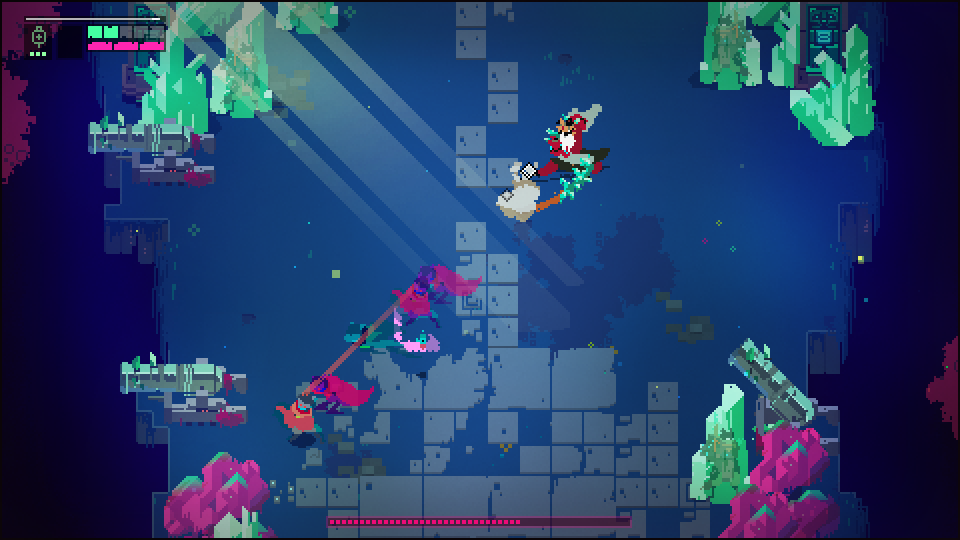hanged_man: (520, 98, 607, 202)
player: (271, 394, 327, 446)
